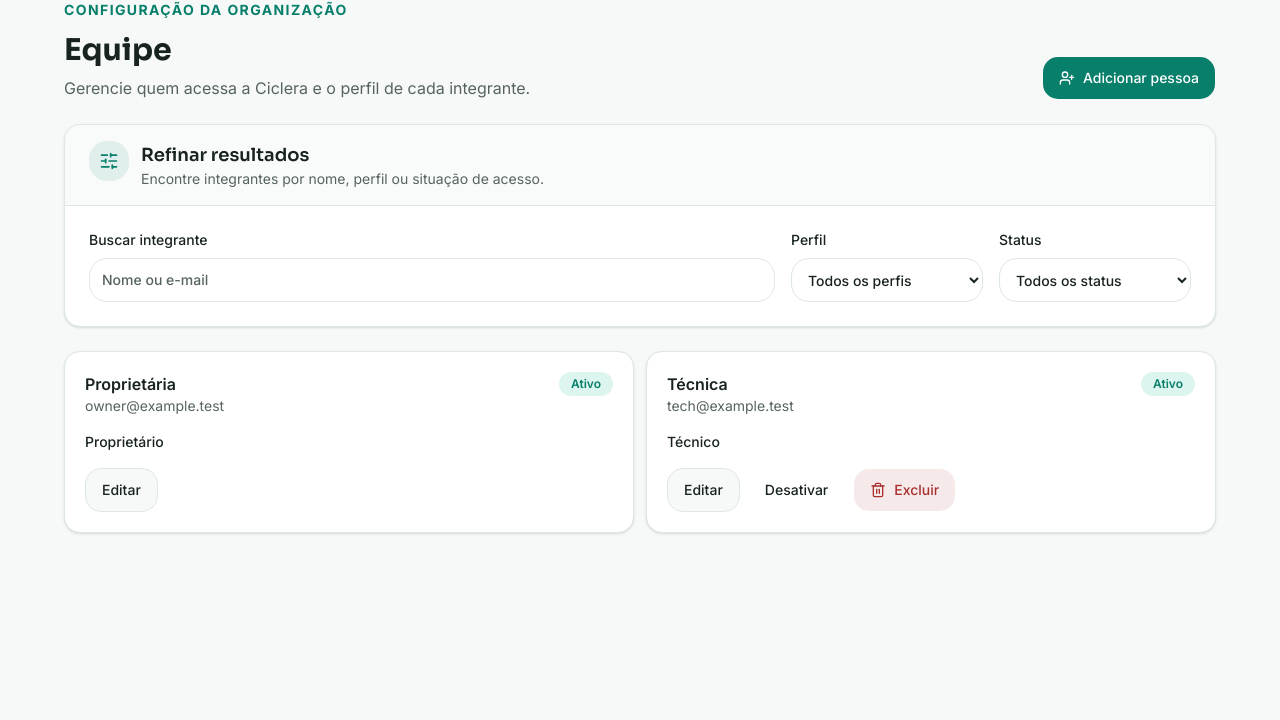
Scenario: team management foundation › lets the owner edit all fields except assigning the OWNER profile
The image size is (1280, 720).
Expected: the heading "Proprietária" is shown, [85,374,176,394]
Expected: the element that starts with "Técnica" is shown, [646,351,1216,533]
Click the button "Editar" below "Técnico". click: [703, 490]
box: [667,468,740,512]
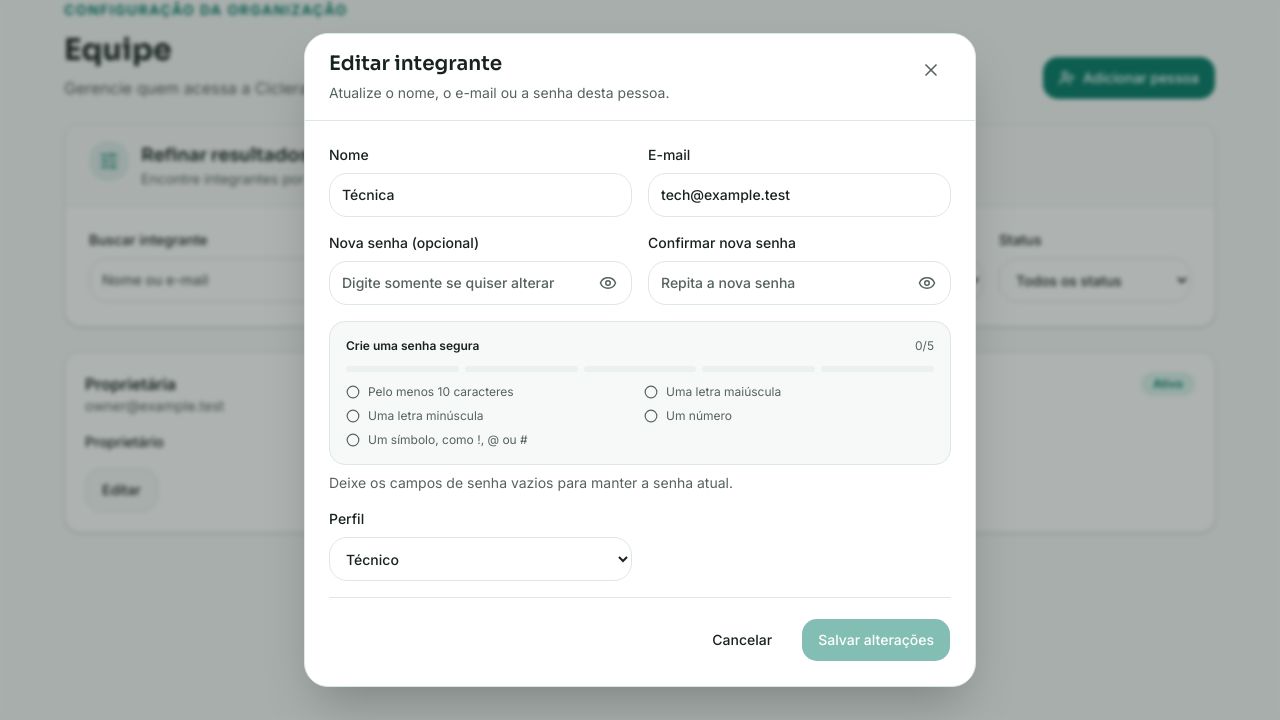
Expected: the field labelled "Nome" holds "Técnica", [329,173,632,217]
Expected: the field labelled "E-mail" holds "tech@example.test", [648,173,951,217]
Expected: the password field labelled "Nova senha (opcional)" is empty, [329,261,632,305]
Select "Administrador" in the dropdown labelled "Perfil". click: [480, 559]
box: [329,537,632,581]
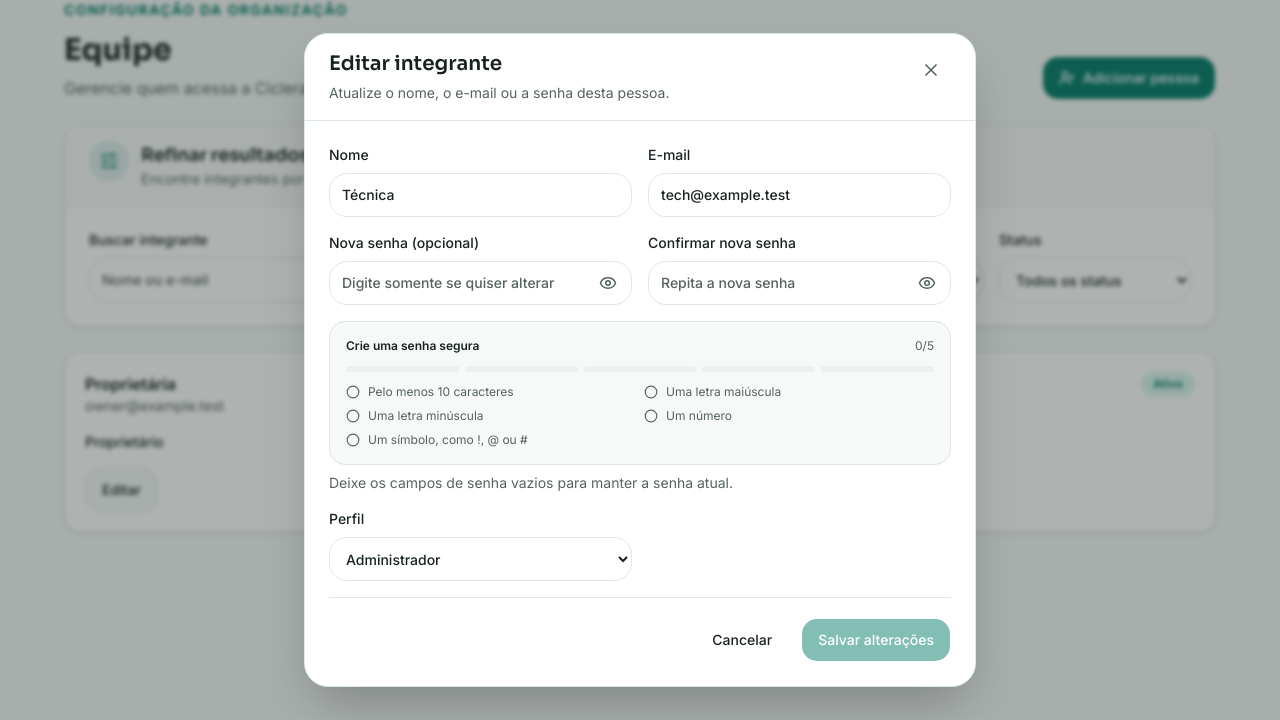
Click the button named "Fechar". click: [931, 70]
box: [911,50,951,90]
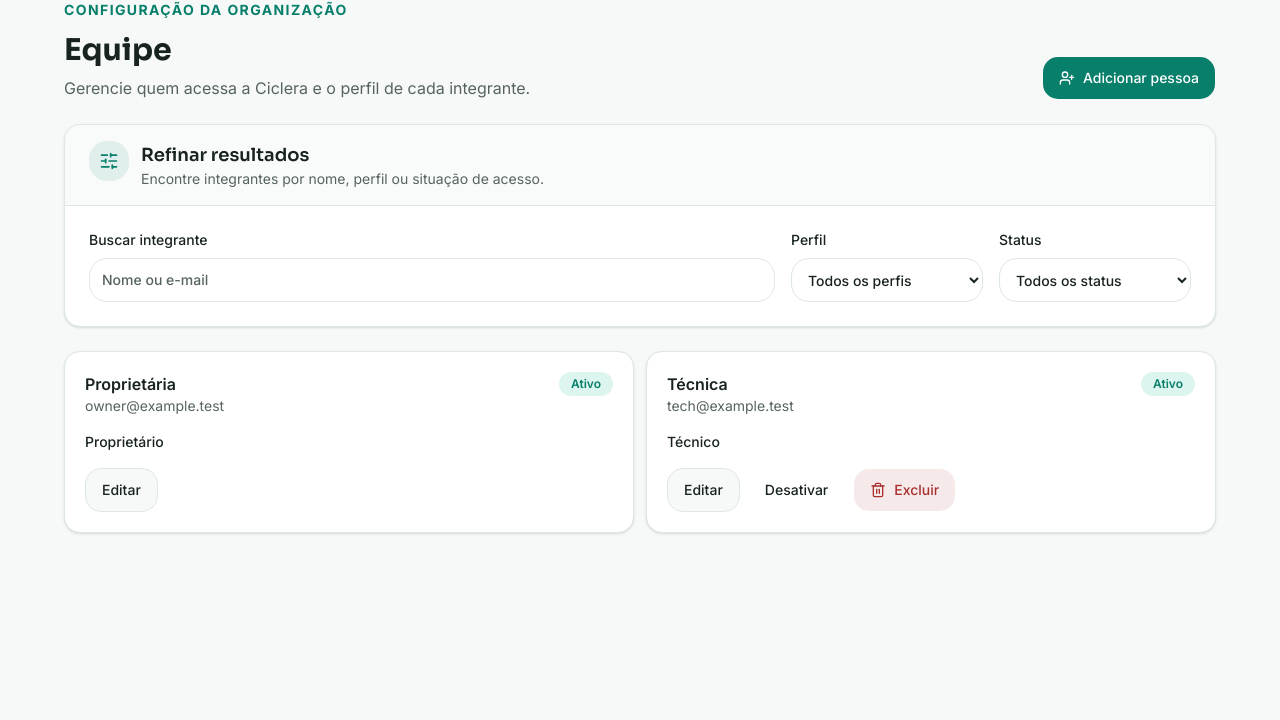
Expected: the heading "Editar integrante" is gone
